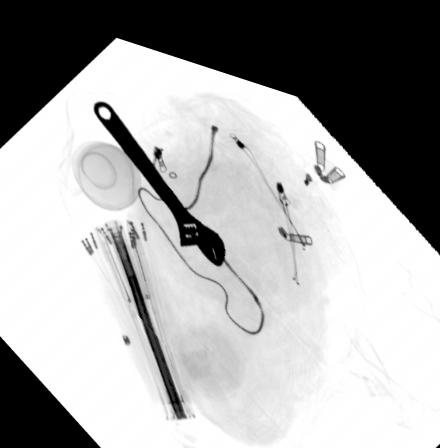Wrench: (92, 93, 226, 256)
